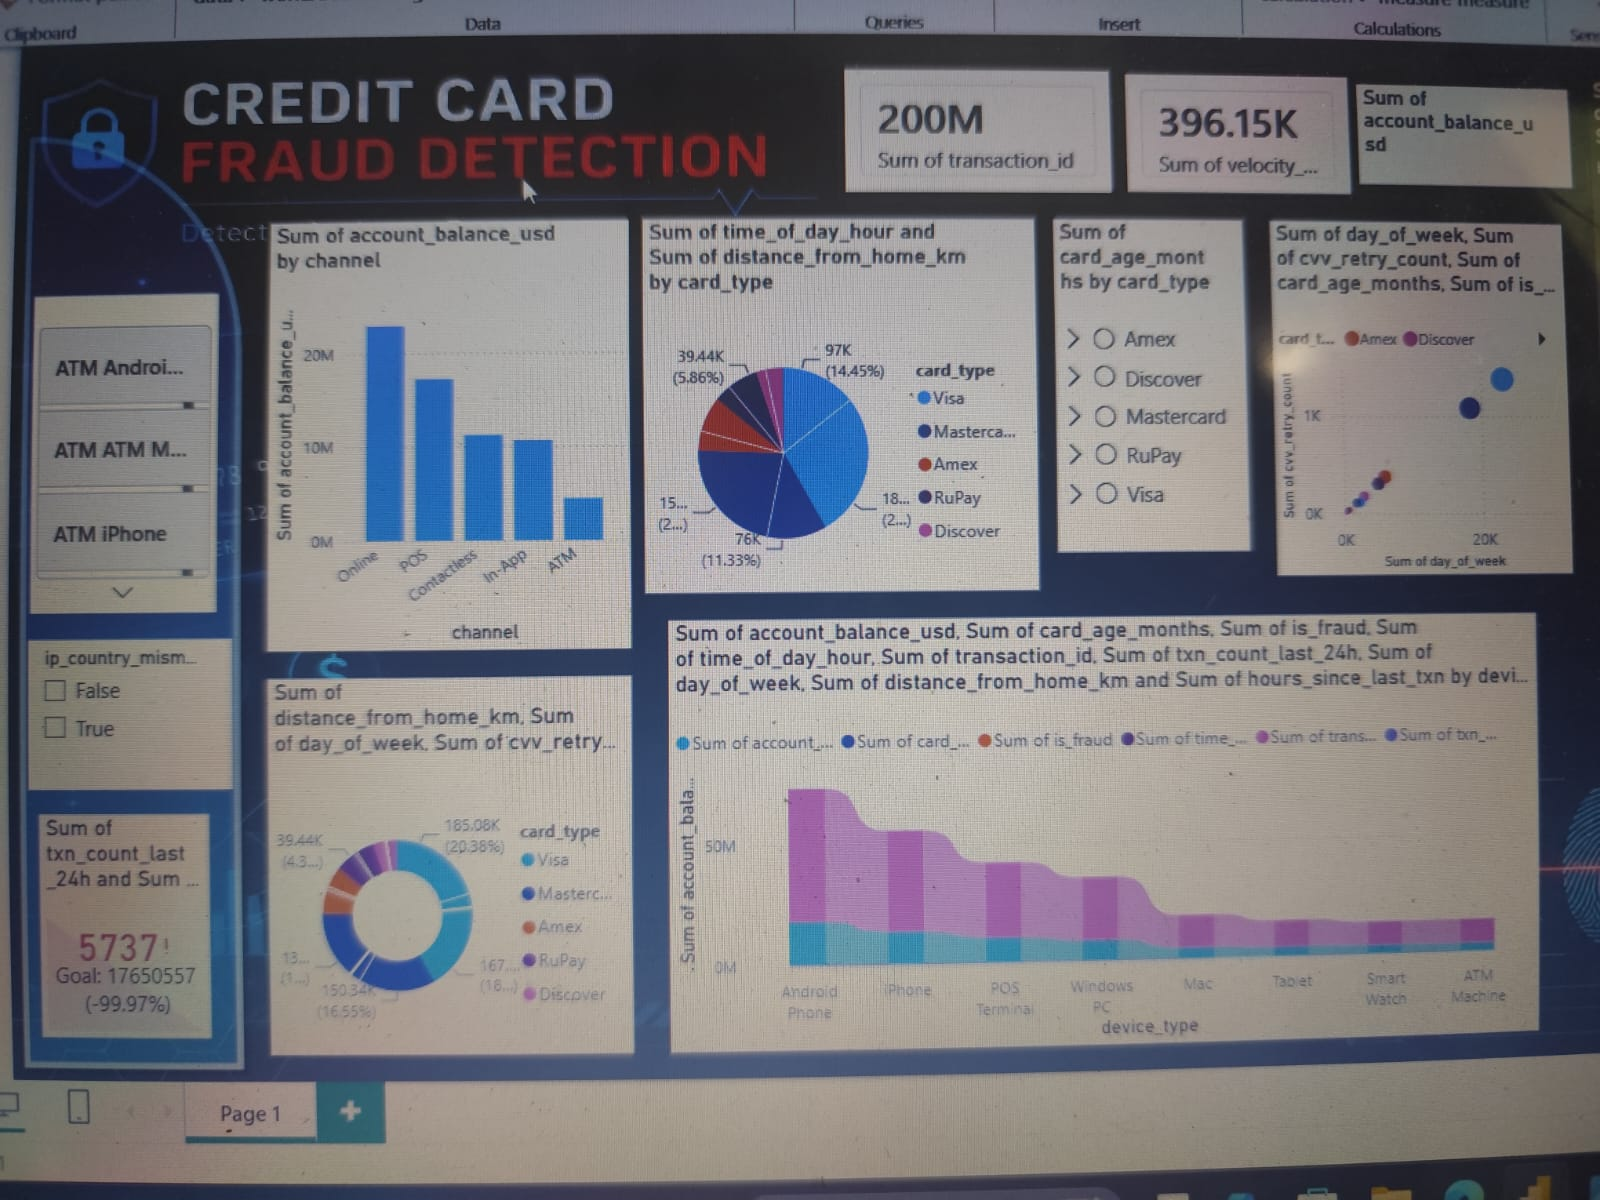

What the dashboard file says about the page in this screenshot:
{"tool":"powerbi","page":{"name":"Page 1","canvas":[1403,802],"ordinal":0},"visuals":[{"type":"shape","box":[0,64.7,189.5,737],"z":0},{"type":"cardVisual","fields":{"Data":["Sum(credit_card_fraud_2026.transaction_id)"]},"box":[638.2,22.2,219.6,109.8],"z":1},{"type":"cardVisual","fields":{"Data":["Sum(credit_card_fraud_2026.velocity_score)"]},"box":[857.2,25.4,190.5,106.4],"z":2},{"type":"clusteredColumnChart","fields":{"Y":["Sum(credit_card_fraud_2026.account_balance_usd)"],"Category":["credit_card_fraud_2026.channel"]},"box":[201.6,146,276.2,328.6],"z":4},{"type":"pieChart","fields":{"Y":["Sum(credit_card_fraud_2026.time_of_day_hour)","Sum(credit_card_fraud_2026.distance_from_home_km)"],"Category":["credit_card_fraud_2026.card_type"]},"box":[487.4,146,301.6,287.3],"z":5},{"type":"listSlicer","fields":{"Values":["credit_card_fraud_2026.card_type","credit_card_fraud_2026.channel","credit_card_fraud_2026.auth_method","credit_card_fraud_2026.device_type"]},"box":[803.3,146,149.2,258.8],"z":6},{"type":"gauge","fields":{"Y":["Sum(credit_card_fraud_2026.account_balance_usd)"]},"box":[1047.7,36.5,176.2,81],"z":7},{"type":"slicer","fields":{"Values":["credit_card_fraud_2026.ip_country_mismatch"]},"box":[16.1,465,158.7,114.3],"z":8},{"type":"ribbonChart","fields":{"Category":["credit_card_fraud_2026.device_type"],"Y":["Sum(credit_card_fraud_2026.account_balance_usd)","Sum(credit_card_fraud_2026.card_age_months)","Sum(credit_card_fraud_2026.is_fraud)","Sum(credit_card_fraud_2026.time_of_day_hour)","Sum(credit_card_fraud_2026.transaction_id)","Sum(credit_card_fraud_2026.txn_count_last_24h)"]},"box":[504.8,454,676.3,327],"z":9},{"type":"scatterChart","fields":{"X":["Sum(credit_card_fraud_2026.day_of_week)"],"Y":["Sum(credit_card_fraud_2026.cvv_retry_count)"],"Category":["credit_card_fraud_2026.used_vpn"],"Series":["credit_card_fraud_2026.card_type"],"Size":["Sum(credit_card_fraud_2026.card_age_months)"]},"box":[974.7,146,238.1,277.8],"z":10},{"type":"donutChart","fields":{"Y":["Sum(credit_card_fraud_2026.distance_from_home_km)","Sum(credit_card_fraud_2026.day_of_week)","Sum(credit_card_fraud_2026.cvv_retry_count)","Sum(credit_card_fraud_2026.prior_disputes)","Sum(credit_card_fraud_2026.velocity_score)"],"Category":["credit_card_fraud_2026.card_type","credit_card_fraud_2026.device_type"]},"box":[201.6,495.3,276.2,285.7],"z":11},{"type":"clusteredBarChart","fields":{"Category":["credit_card_fraud_2026.channel"],"Y":["Sum(credit_card_fraud_2026.customer_age)","Sum(credit_card_fraud_2026.cvv_retry_count)","Sum(credit_card_fraud_2026.day_of_week)","Sum(credit_card_fraud_2026.distance_from_home_km)","Sum(credit_card_fraud_2026.hours_since_last_txn)","Sum(credit_card_fraud_2026.is_fraud)","Sum(credit_card_fraud_2026.time_of_day_hour)","Sum(credit_card_fraud_2026.prior_disputes)"]},"box":[1240.4,25.5,149.2,758.8],"z":12},{"type":"cardVisual","fields":{"Rows":["credit_card_fraud_2026.channel","credit_card_fraud_2026.device_type"],"Data":["Sum(credit_card_fraud_2026.customer_age)","Sum(credit_card_fraud_2026.cvv_retry_count)","Sum(credit_card_fraud_2026.day_of_week)"]},"box":[17.5,200.2,144.5,244.5],"z":13},{"type":"kpi","fields":{"Indicator":["Sum(credit_card_fraud_2026.txn_count_last_24h)"],"Goal":["Sum(credit_card_fraud_2026.transaction_id)"],"TrendLine":["credit_card_fraud_2026.used_vpn"]},"box":[24.2,598,131.7,170.7],"z":14}]}

Visuals, with their boxes on the page's 1403x802 design canvas (x1, y1, x2, y2). These are canvas units, not pixel positions in the 1600x1200 screenshot, which may show the page scaled, cropped or inside an application window:
shape: 0,65,190,802
cardVisual - Sum(credit_card_fraud_2026.transaction_id): 638,22,858,132
cardVisual - Sum(credit_card_fraud_2026.velocity_score): 857,25,1048,132
clusteredColumnChart - Sum(credit_card_fraud_2026.account_balance_usd) x credit_card_fraud_2026.channel: 202,146,478,475
pieChart - Sum(credit_card_fraud_2026.time_of_day_hour) x Sum(credit_card_fraud_2026.distance_from_home_km): 487,146,789,433
listSlicer - credit_card_fraud_2026.card_type x credit_card_fraud_2026.channel: 803,146,952,405
gauge - Sum(credit_card_fraud_2026.account_balance_usd): 1048,36,1224,118
slicer - credit_card_fraud_2026.ip_country_mismatch: 16,465,175,579
ribbonChart - credit_card_fraud_2026.device_type x Sum(credit_card_fraud_2026.account_balance_usd): 505,454,1181,781
scatterChart - Sum(credit_card_fraud_2026.day_of_week) x Sum(credit_card_fraud_2026.cvv_retry_count): 975,146,1213,424
donutChart - Sum(credit_card_fraud_2026.distance_from_home_km) x Sum(credit_card_fraud_2026.day_of_week): 202,495,478,781
clusteredBarChart - credit_card_fraud_2026.channel x Sum(credit_card_fraud_2026.customer_age): 1240,26,1390,784
cardVisual - credit_card_fraud_2026.channel x credit_card_fraud_2026.device_type: 18,200,162,445
kpi - Sum(credit_card_fraud_2026.txn_count_last_24h) x Sum(credit_card_fraud_2026.transaction_id): 24,598,156,769
